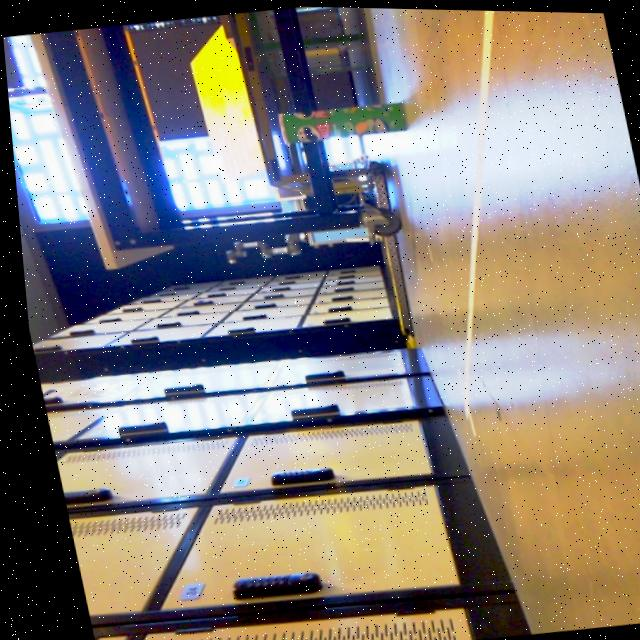greenpringles: (251, 81, 419, 154)
